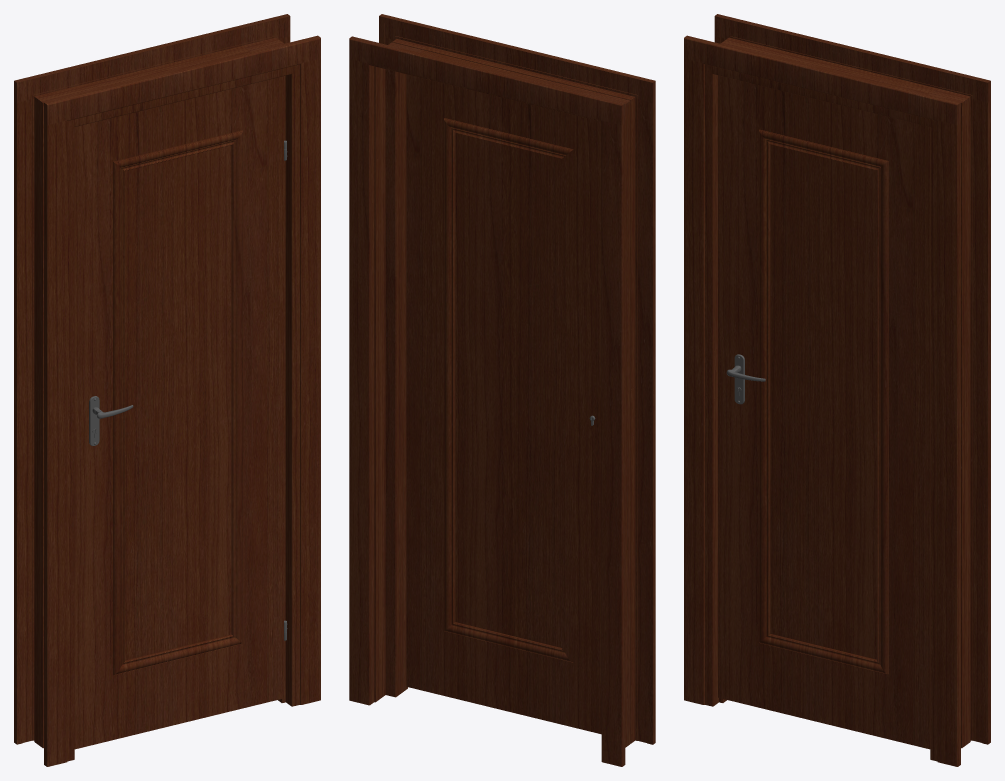
Rendered from 简约实木卧室门.fbx.
The picture shows the model from 3 angles, left to right: view 1: azimuth 30°, elevation 25°; view 2: azimuth 150°, elevation 25°; view 3: azimuth 330°, elevation 25°; orthographic projection.
Parts seen in each view (by area): view 1: 3DXY_geometry_001; view 2: 3DXY_geometry_001; view 3: 3DXY_geometry_001.
Part boxes in pixels (<box>): 3DXY_geometry_001: <box>14,14,320,766</box>; 3DXY_geometry_001: <box>349,14,655,766</box>; 3DXY_geometry_001: <box>684,14,990,766</box>.
Size of the model in its own units: 91.8 by 212 by 22.61.
2 materials, 1 textured.
